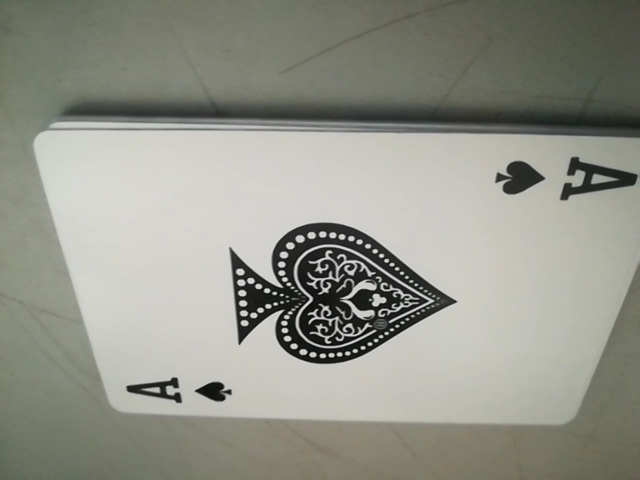ht a: (489, 141, 638, 214)
